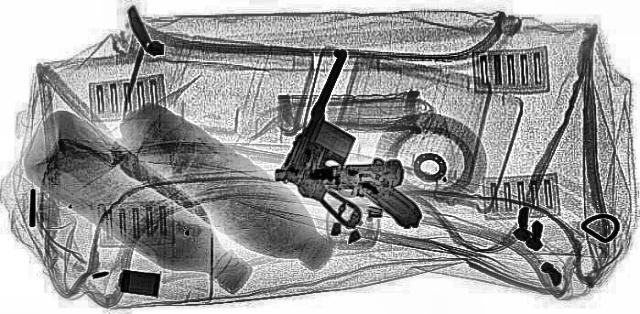Gun: (264, 49, 404, 228), (268, 156, 419, 228)
